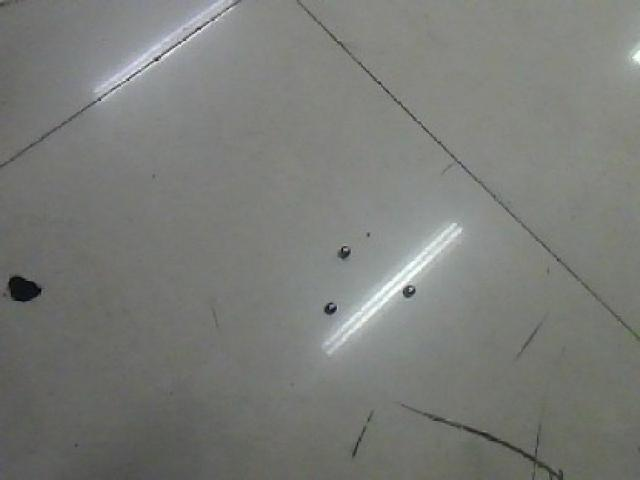steel-ball: (394, 274, 423, 308), (312, 282, 338, 318), (332, 238, 354, 260)
